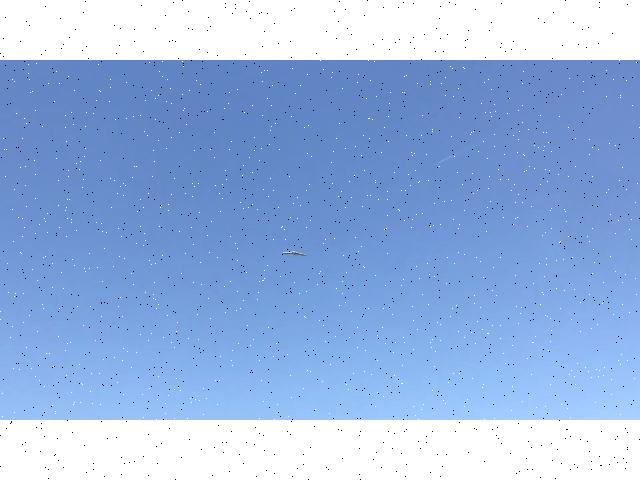Anti-Drone: (269, 245, 311, 267)
